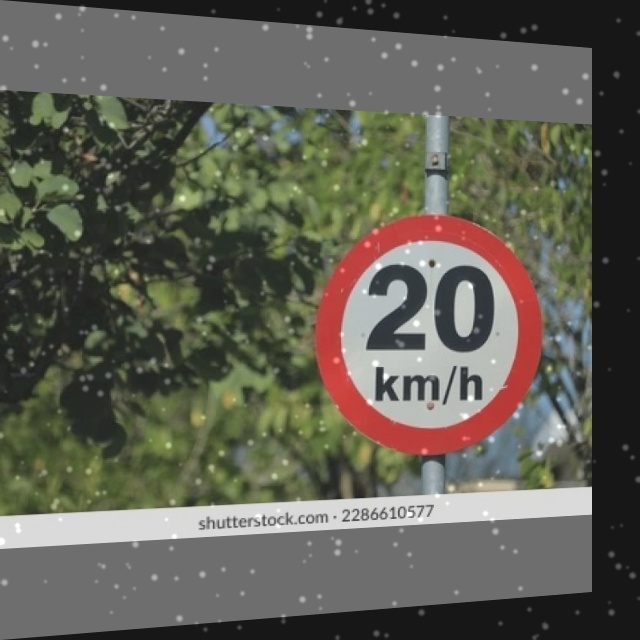Speed_Limit_20: (321, 215, 544, 460)
